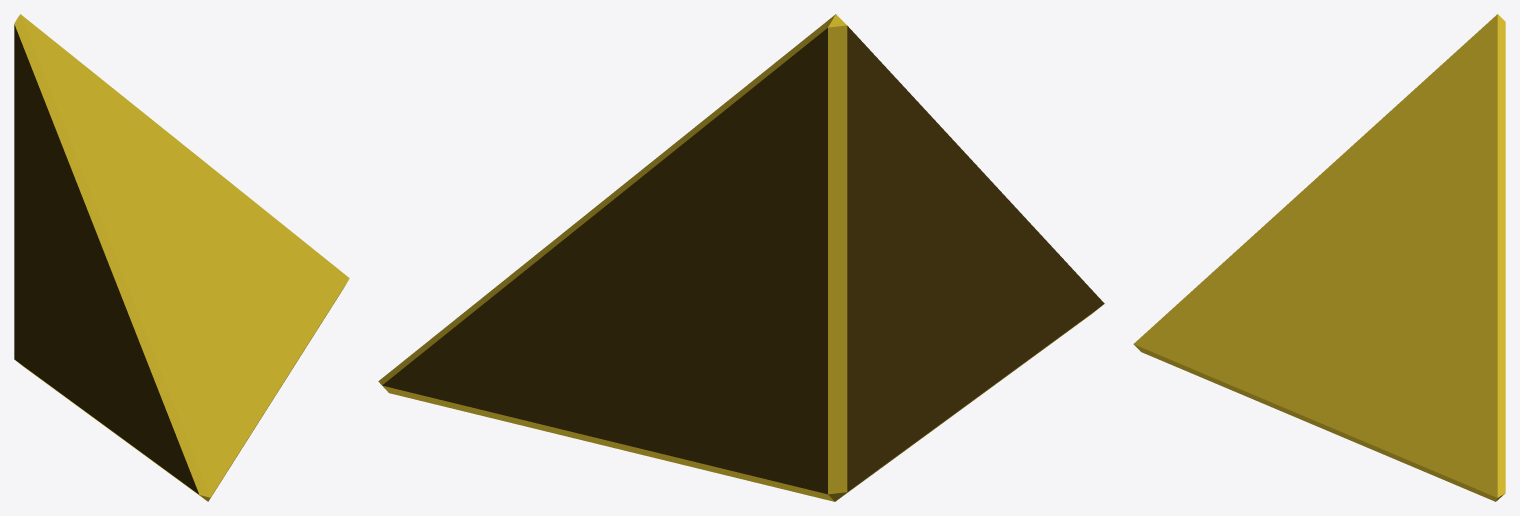
File: ugol.fbx
3 views of the same model, side by side, from view 1: azimuth 30°, elevation 25°; view 2: azimuth 150°, elevation 25°; view 3: azimuth 270°, elevation 25° (orthographic). The views are drawn at different scales.
Visible parts, largest first — view 1: Cube; view 2: Cube; view 3: Cube.
Part boxes in pixels (x1,y1,x2,y2): Cube: (14,14,349,501); Cube: (378,14,1104,501); Cube: (1133,14,1505,501).
Size of the model in its own units: 1.92 by 1.92 by 1.92.
